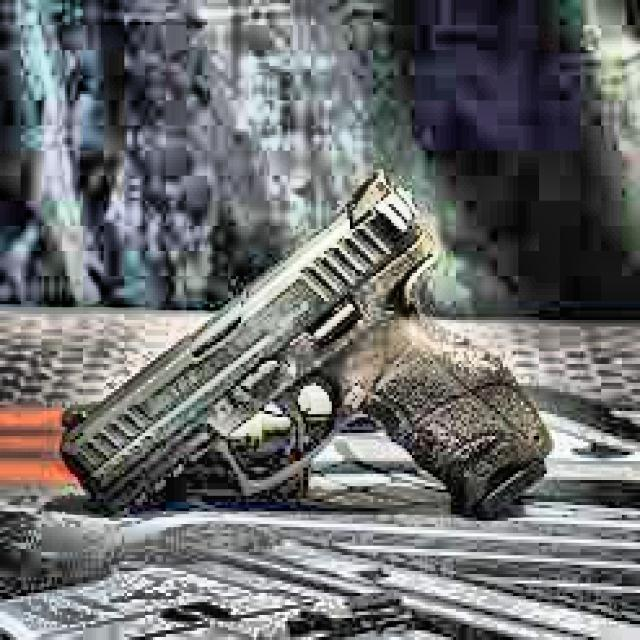HKVP9: (57, 163, 554, 521)
